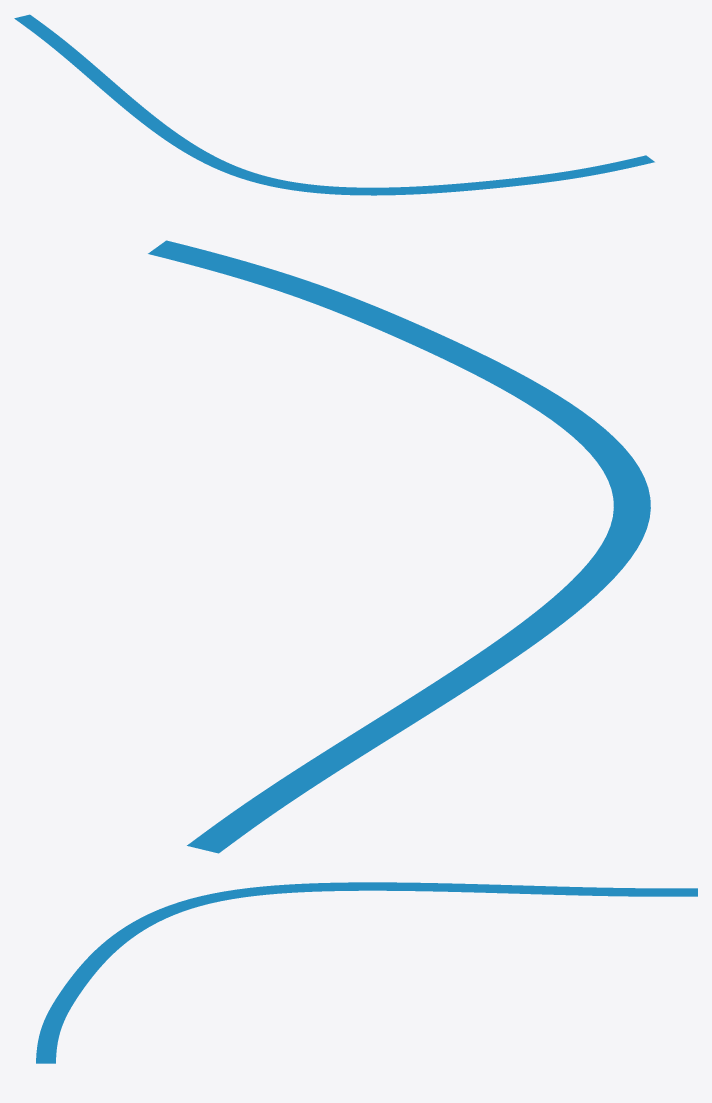
File: guide.glb
The picture shows the model from 3 angles, top to bottom: view 1: azimuth 30°, elevation 25°; view 2: azimuth 150°, elevation 25°; view 3: azimuth 270°, elevation 25°; orthographic projection. The views are drawn at different scales.
Parts seen in each view (by area): view 1: static; view 2: static; view 3: static.
Boxes of the visible parts, x1,y1,x2,y2 form: static: (14, 14, 654, 195); static: (148, 240, 650, 853); static: (36, 882, 697, 1063).
Size of the model in its own units: 7.84 by 0 by 10.98.
